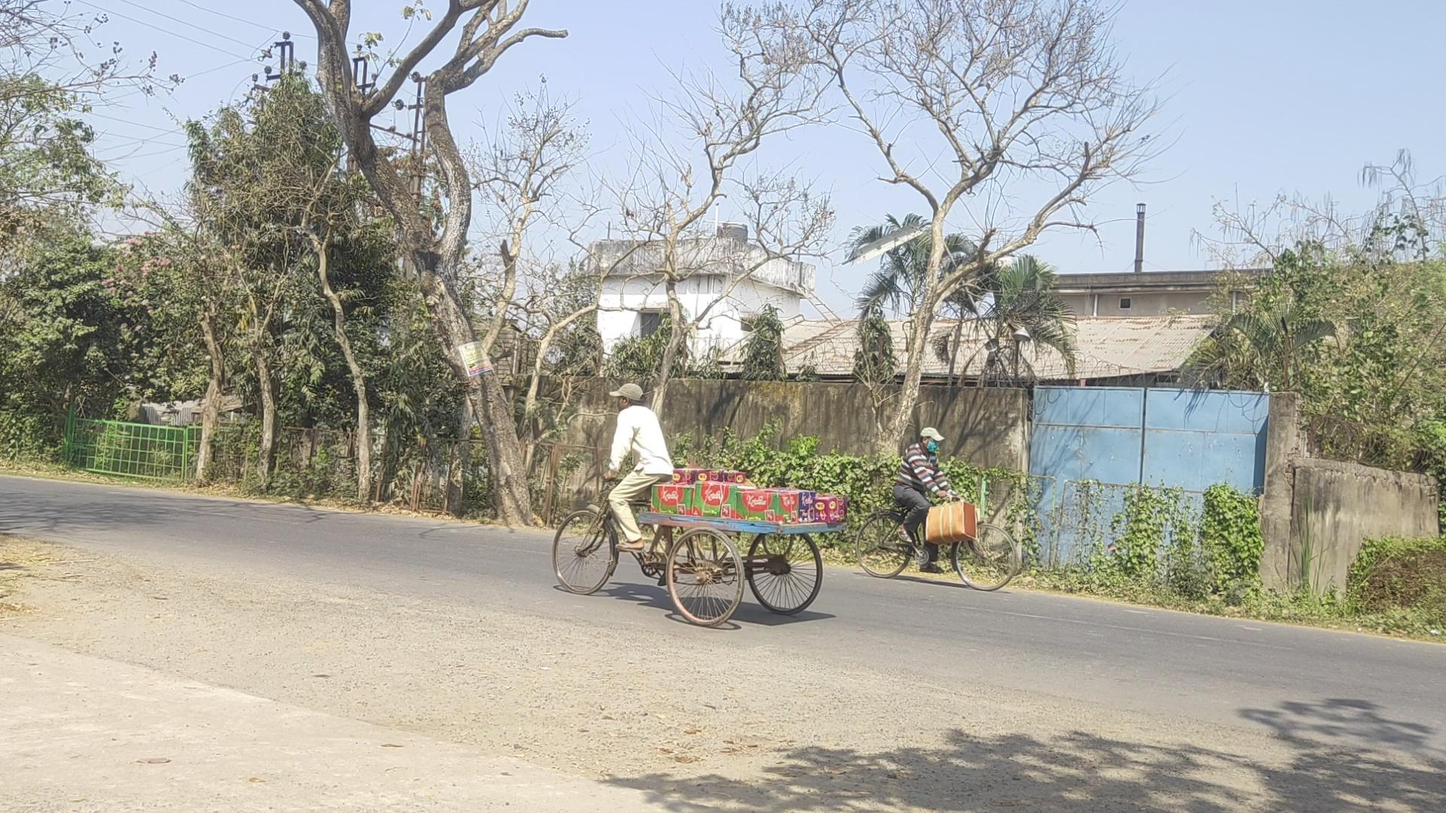bike: (855, 428, 1017, 592)
